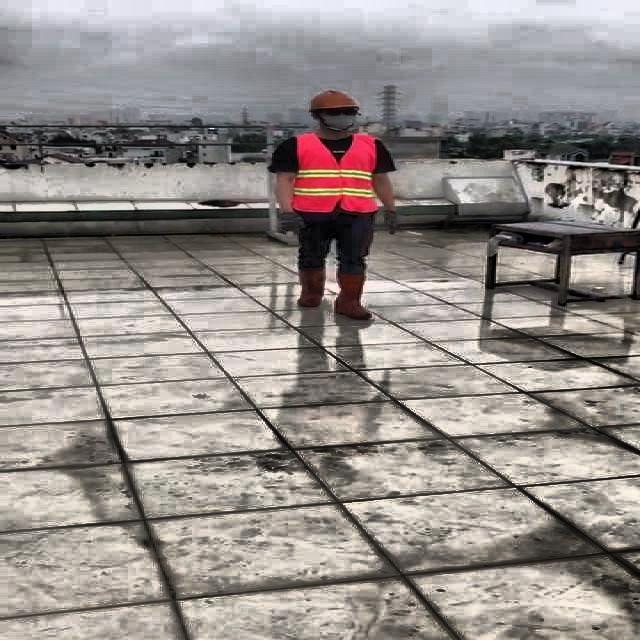safety_helmet: (304, 88, 362, 112)
safety_jacket: (290, 132, 378, 214)
